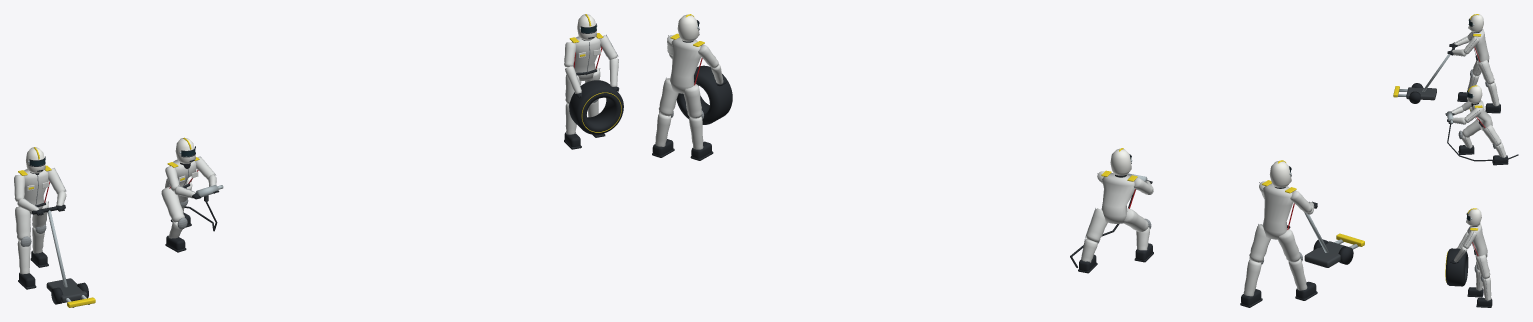
File: pit-crew.glb
The picture shows the model from 3 angles, left to right: view 1: azimuth 30°, elevation 25°; view 2: azimuth 150°, elevation 25°; view 3: azimuth 270°, elevation 25°; orthographic projection. The views are drawn at different scales.
Visible parts, largest first — view 1: Crew | Ivory Nomex woven suit, Crew | Black leather and rubber, Crew | Warm white helmet shell, Crew | Racing yellow trim, Crew | Brushed tool steel, Crew | Stitched grey seam, Crew | Equipment graphite; view 2: Crew | Ivory Nomex woven suit, Crew | Black leather and rubber, Crew | Warm white helmet shell, Crew | Equipment graphite, Crew | Racing yellow trim; view 3: Crew | Ivory Nomex woven suit, Crew | Black leather and rubber, Crew | Warm white helmet shell, Crew | Stitched grey seam, Crew | Equipment graphite, Crew | Brushed tool steel, Crew | Racing yellow trim.
Boxes of the visible parts, x1=… form: Crew | Ivory Nomex woven suit: x1=14, y1=35, x2=618, y2=274; Crew | Black leather and rubber: x1=18, y1=23, x2=623, y2=304; Crew | Warm white helmet shell: x1=26, y1=14, x2=596, y2=173; Crew | Racing yellow trim: x1=18, y1=14, x2=621, y2=307; Crew | Brushed tool steel: x1=28, y1=25, x2=597, y2=307; Crew | Stitched grey seam: x1=20, y1=34, x2=618, y2=246; Crew | Equipment graphite: x1=46, y1=195, x2=208, y2=302; Crew | Ivory Nomex woven suit: x1=655, y1=35, x2=1314, y2=296; Crew | Black leather and rubber: x1=652, y1=20, x2=1353, y2=307; Crew | Warm white helmet shell: x1=677, y1=14, x2=1291, y2=187; Crew | Equipment graphite: x1=1136, y1=189, x2=1351, y2=267; Crew | Racing yellow trim: x1=670, y1=14, x2=1364, y2=246; Crew | Ivory Nomex woven suit: x1=1451, y1=28, x2=1506, y2=300; Crew | Black leather and rubber: x1=1409, y1=18, x2=1518, y2=307; Crew | Warm white helmet shell: x1=1466, y1=14, x2=1483, y2=226; Crew | Stitched grey seam: x1=1451, y1=32, x2=1503, y2=300; Crew | Equipment graphite: x1=1406, y1=87, x2=1450, y2=123; Crew | Brushed tool steel: x1=1398, y1=24, x2=1474, y2=219; Crew | Racing yellow trim: x1=1393, y1=14, x2=1482, y2=282.
Size of the model in its own units: 8.94 by 1.82 by 2.23.
